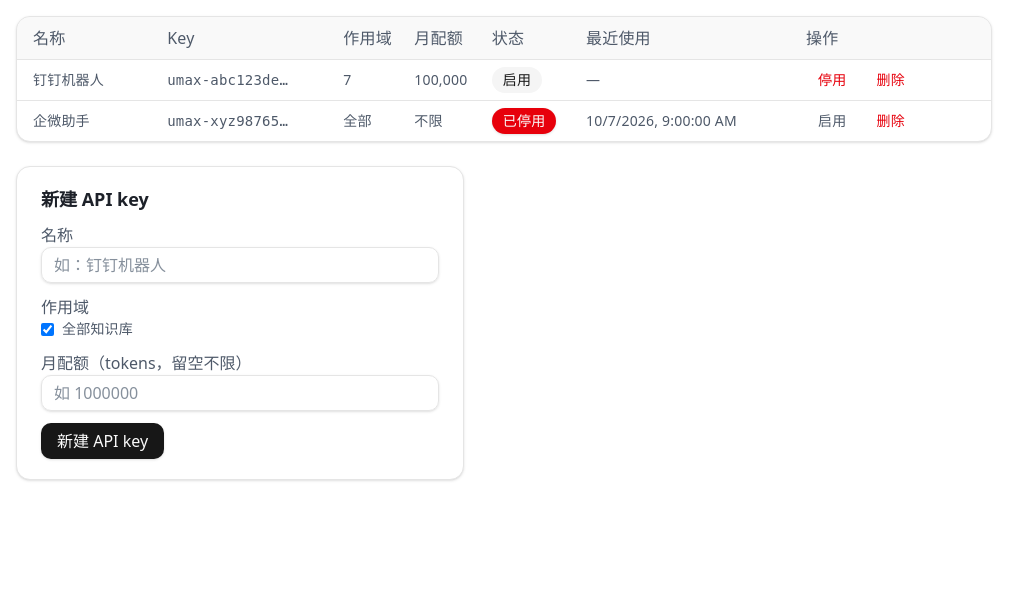
Scenario: API key 管理 › 指定库模式一个库都不勾：前端拦截不发请求
Expected: the text "钉钉机器人" is shown, [17,60,167,100]
In the field labelled "名称": (240, 265) [41,247,439,283], type "空作用域"
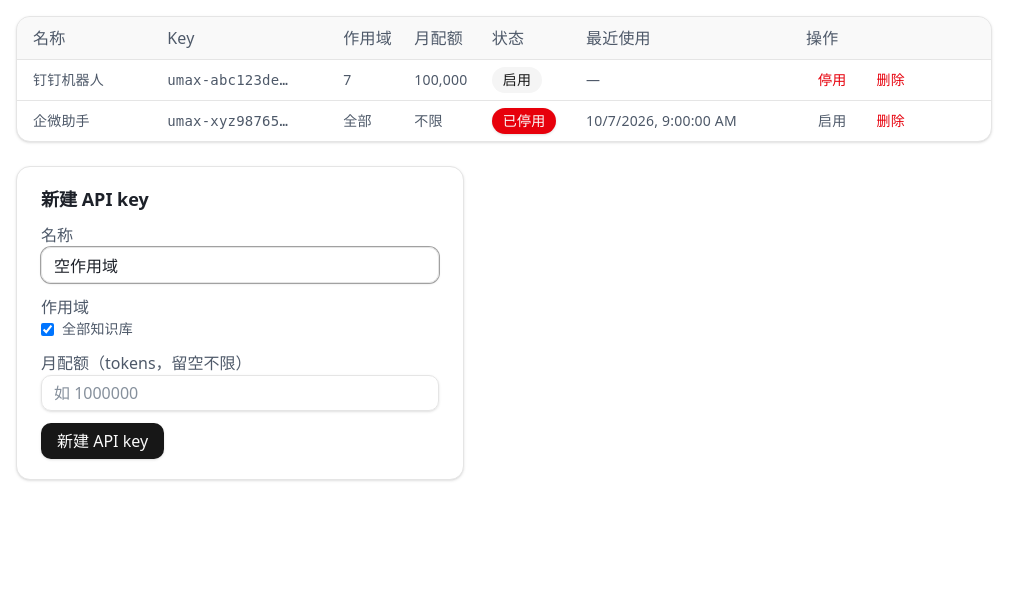
Click the checkbox named "全库": (48, 329) [41,322,54,336]
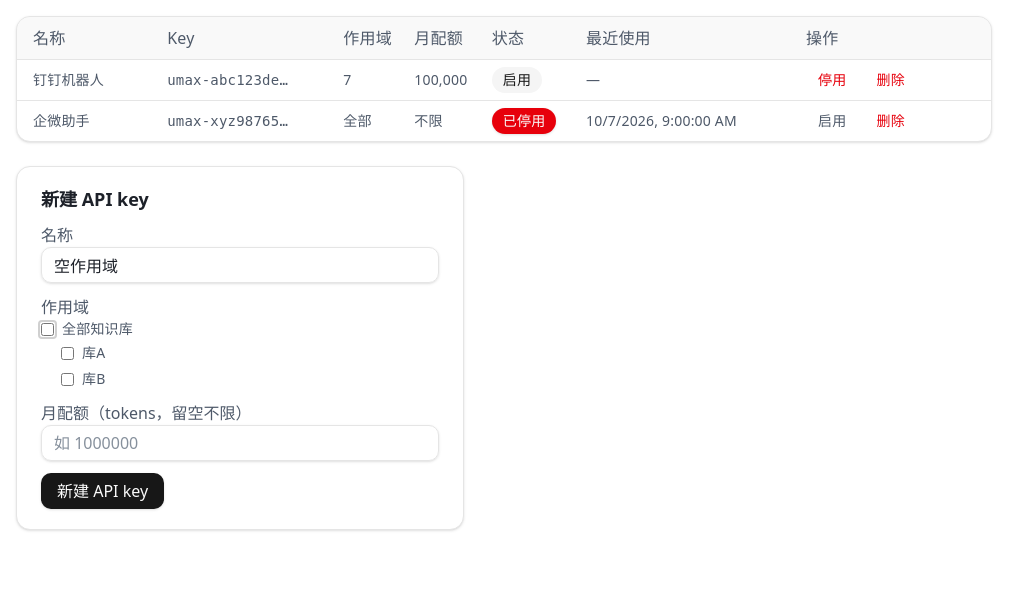
Click the button "新建 API key": (103, 491) [41,473,164,509]
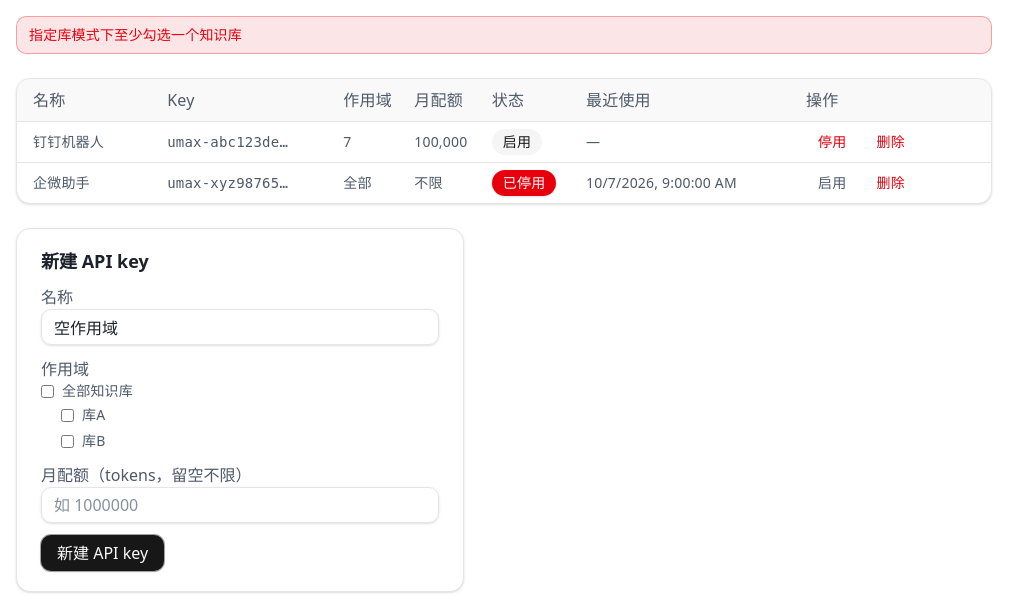
Result: the text "指定库模式下至少勾选一个知识库" is shown at [16,16,992,54]
